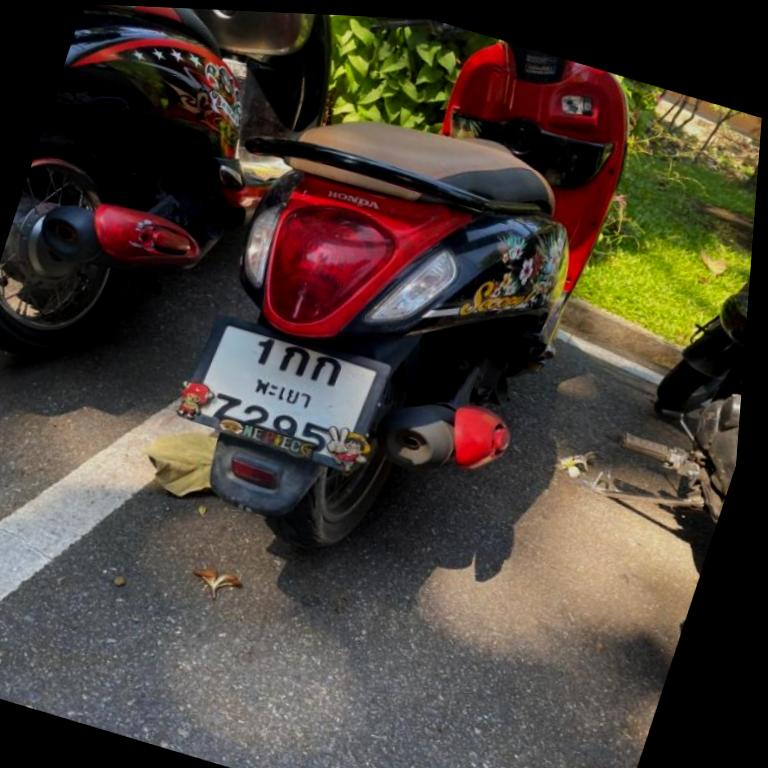license plate: (168, 302, 406, 490)
